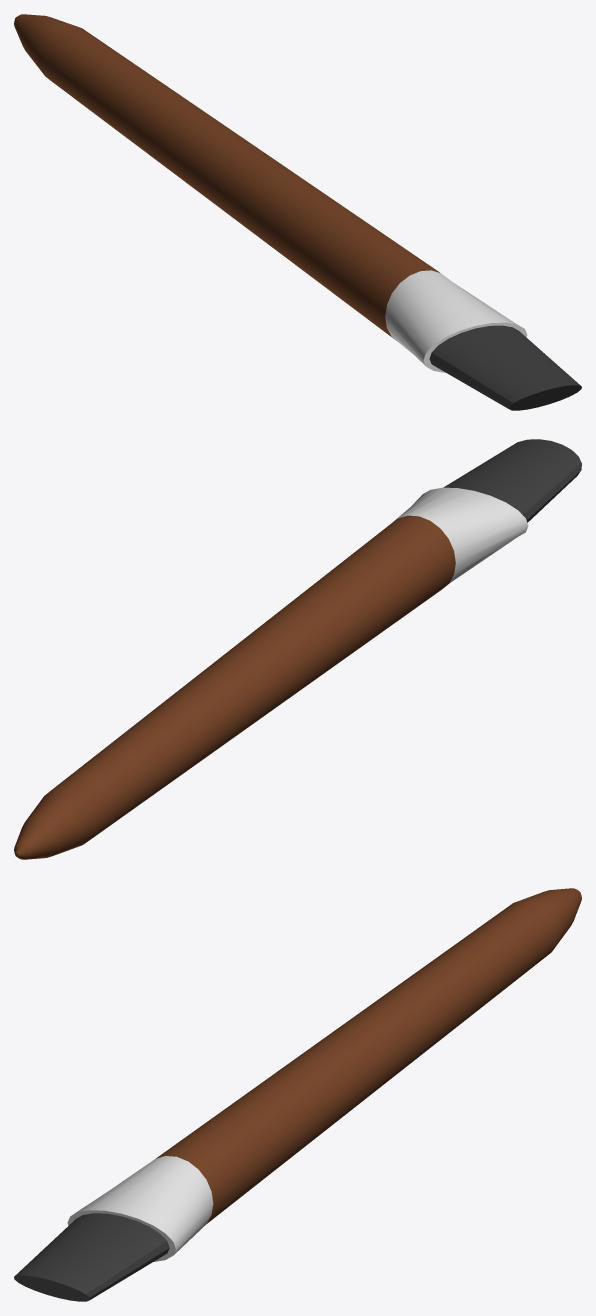
Rendered from F11_Brush.fbx.
3 views of the same model, one above another, from view 1: azimuth 30°, elevation 25°; view 2: azimuth 150°, elevation 25°; view 3: azimuth 330°, elevation 25° (orthographic). The views are drawn at different scales.
Visible parts, largest first — view 1: Brush; view 2: Brush; view 3: Brush.
Boxes of the visible parts, bbox=[...] form: Brush: bbox=[14, 14, 581, 410]; Brush: bbox=[14, 439, 581, 859]; Brush: bbox=[14, 888, 581, 1301].
Bounding box in the file's own units: 0.0453 × 0.0306 × 0.3953.
